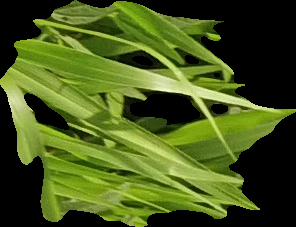grass: (1, 1, 294, 225)
